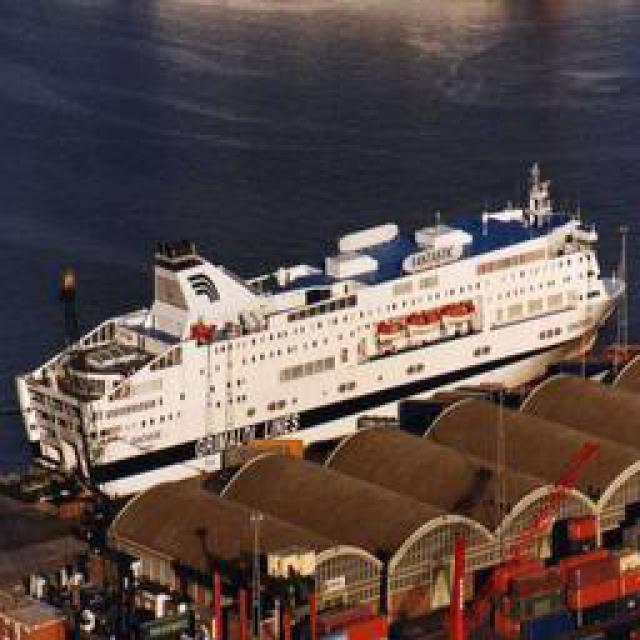Ship: (18, 215, 623, 483)
